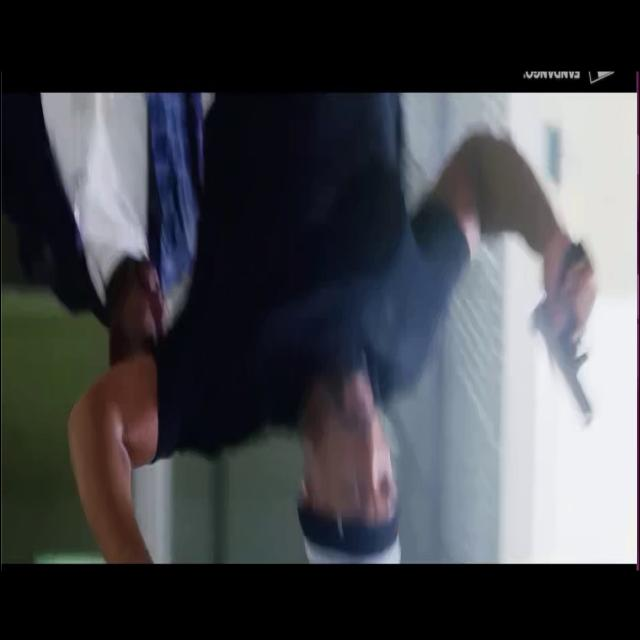weapons: (527, 235, 603, 452)
